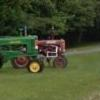Tractor: (6, 18, 74, 78)
